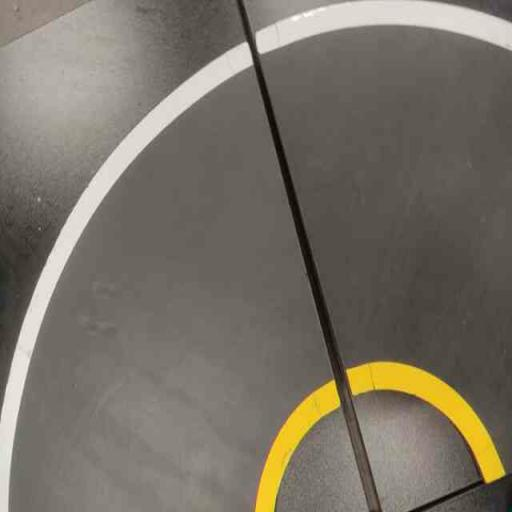left: (244, 0, 511, 484)
